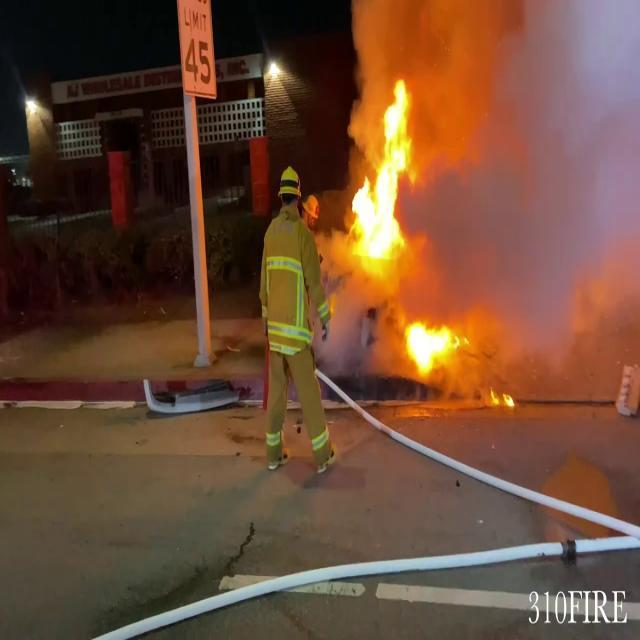Fire: (343, 74, 426, 272), (395, 312, 467, 380)
Smoke: (392, 1, 640, 384)
